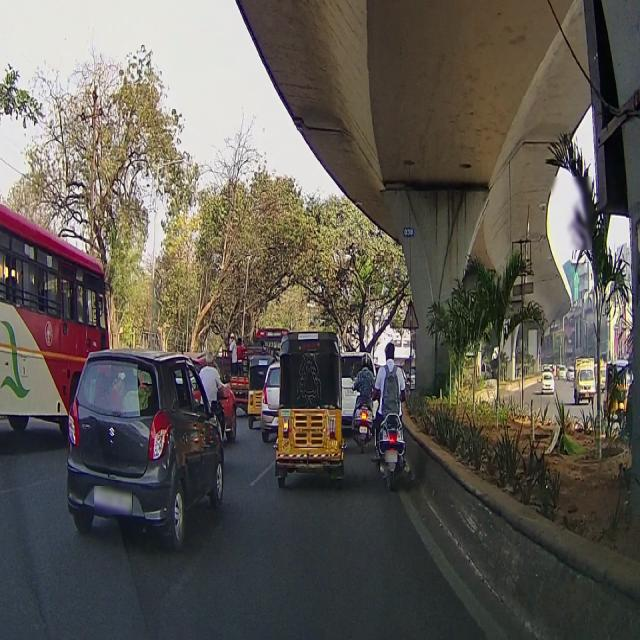gap-in-median: (402, 300, 420, 328)
